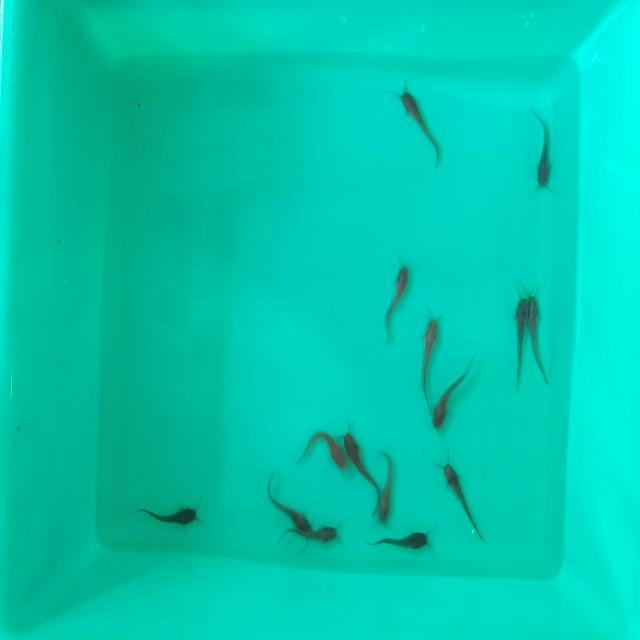lele: (396, 83, 444, 164), (443, 460, 482, 536), (527, 292, 559, 378), (264, 479, 318, 525), (432, 372, 472, 428), (298, 429, 346, 472), (524, 112, 550, 188), (384, 262, 411, 335), (510, 290, 529, 392), (418, 308, 438, 401), (376, 443, 399, 523), (343, 424, 377, 478), (134, 506, 199, 530), (275, 526, 342, 546), (369, 535, 429, 550)
